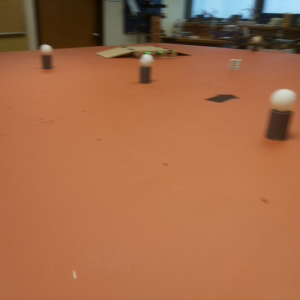blockE: (229, 58, 243, 75)
corner: (151, 16, 162, 43)
obstacle: (264, 89, 297, 142), (139, 55, 155, 85), (39, 45, 55, 70), (252, 36, 262, 54)
side: (134, 51, 175, 60)
slope: (98, 50, 134, 60), (176, 50, 191, 58)
start: (204, 93, 242, 107)
